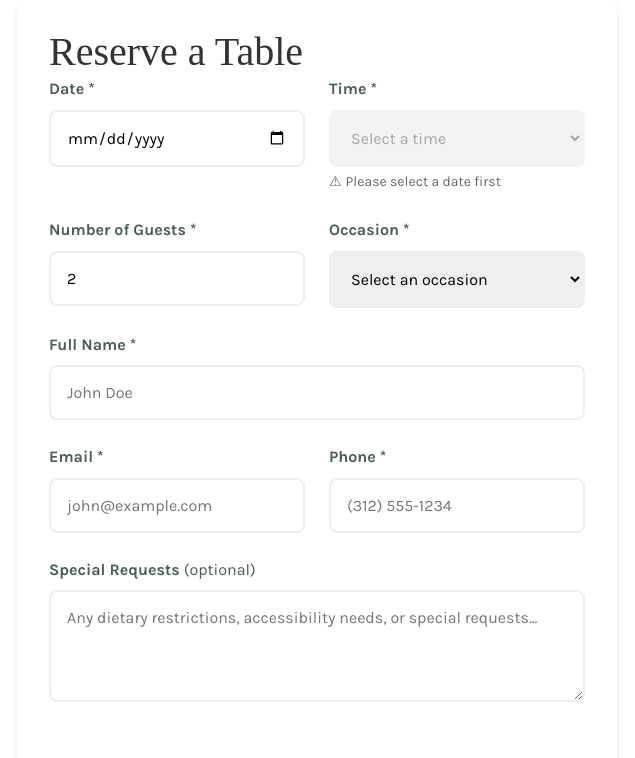
Test case: BookingForm Component › Validation › shows error for invalid email format
Type "invalid-email" into the field labelled "Email *" at x=177, y=505, box [49,478,305,533]
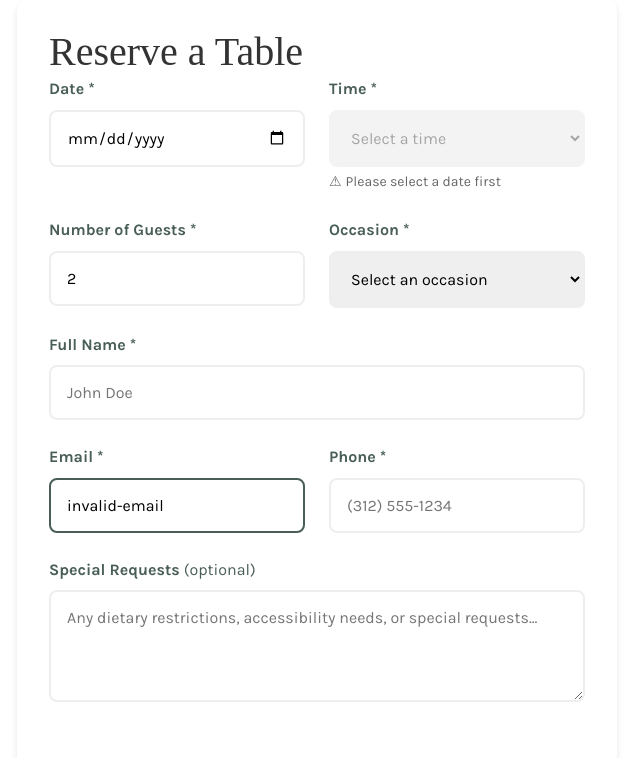
Leave the field labelled "Email *", box [49,478,305,533]
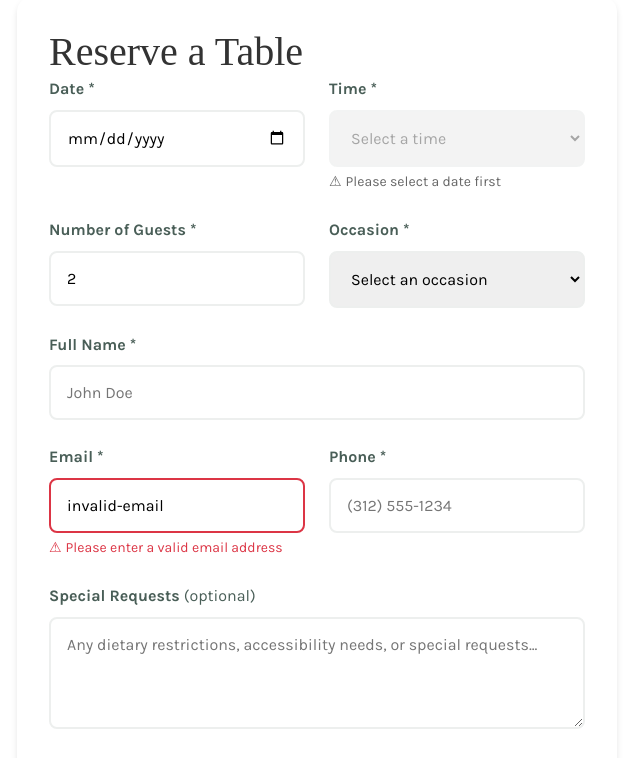
Now the text "Please enter a valid email address" is shown, box [66,539,283,556]
